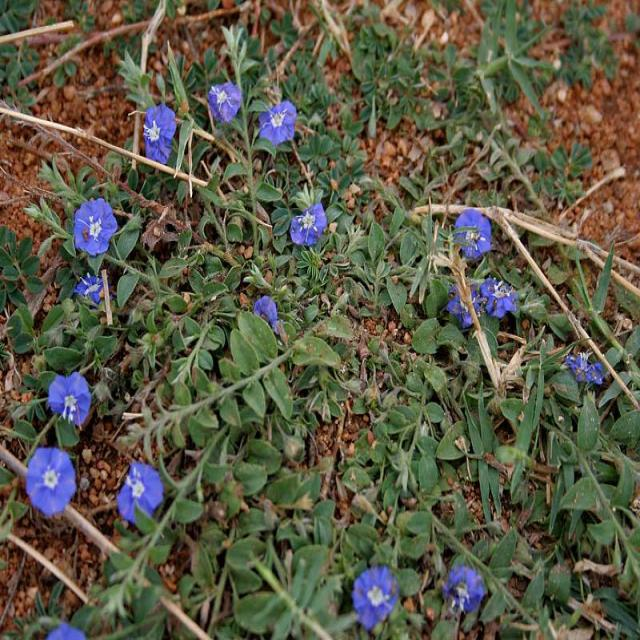organic waste: (18, 441, 78, 518), (550, 333, 612, 399), (41, 368, 99, 436), (110, 456, 168, 521), (346, 562, 402, 629), (68, 187, 122, 254), (130, 104, 183, 172), (256, 85, 301, 156), (282, 193, 330, 256), (452, 198, 497, 261), (204, 71, 243, 135), (442, 288, 480, 343), (451, 554, 483, 619), (482, 280, 518, 322), (70, 274, 112, 308)
